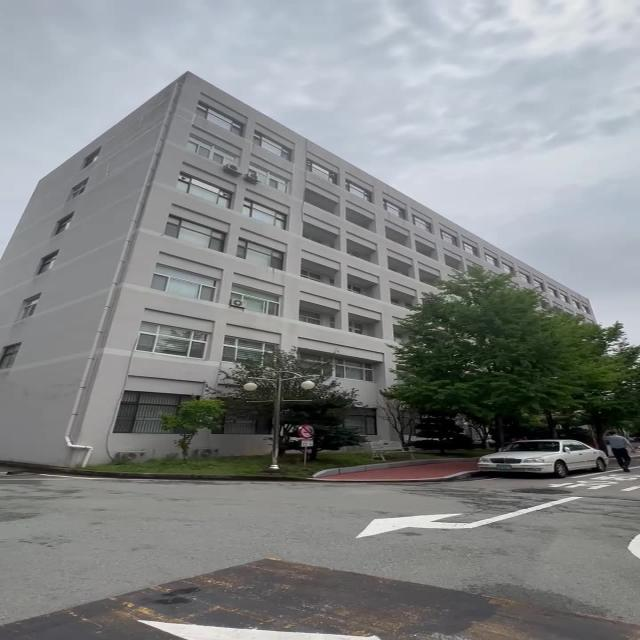building: (14, 66, 390, 365)
